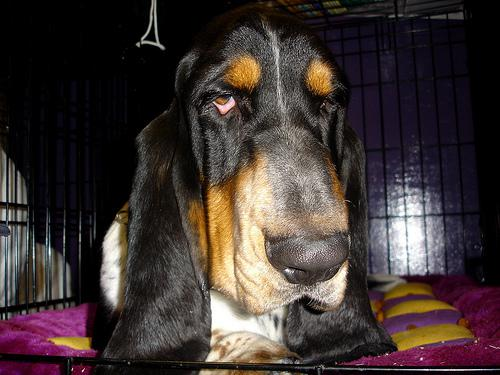dog-basset_hound: (89, 2, 396, 373)
